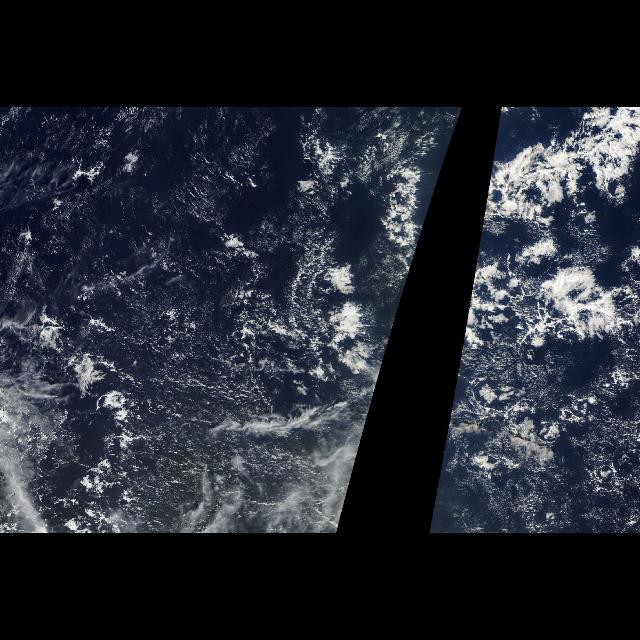Flower: (456, 127, 640, 366), (446, 126, 456, 158)
Gravel: (34, 117, 406, 528), (498, 248, 640, 446)
Sugar: (7, 118, 231, 362)
